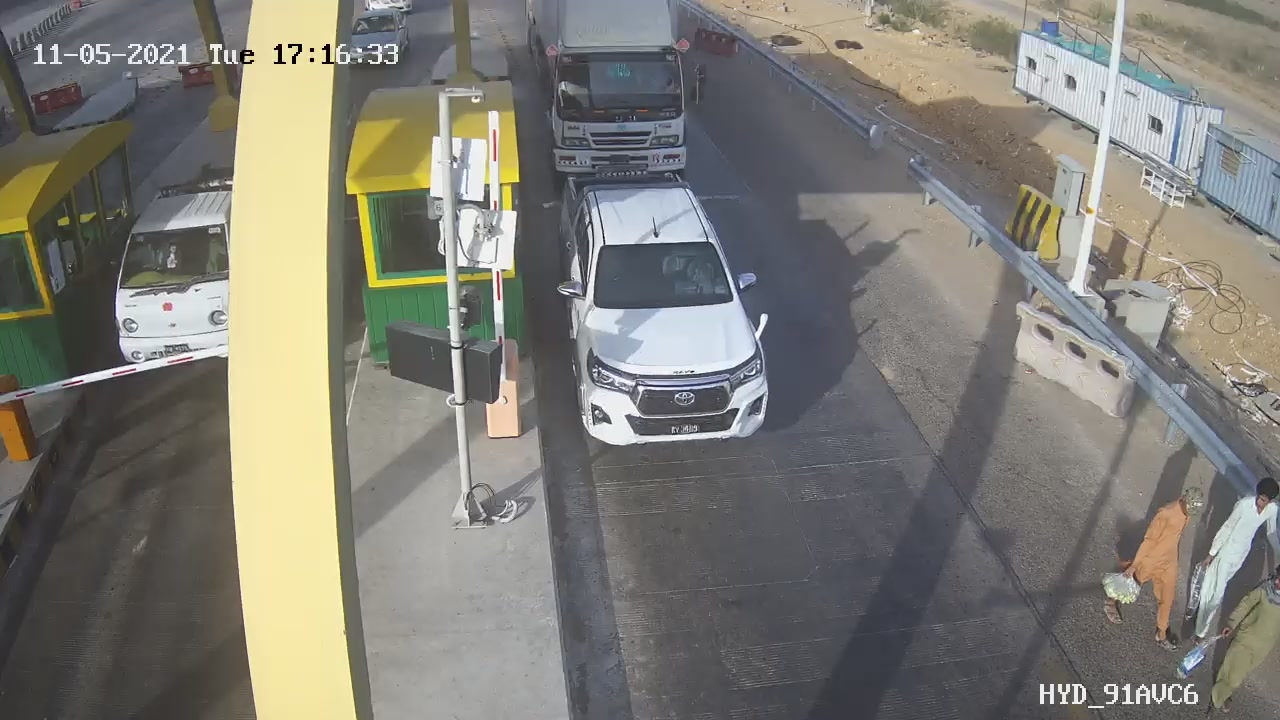F1: (540, 162, 799, 469)
